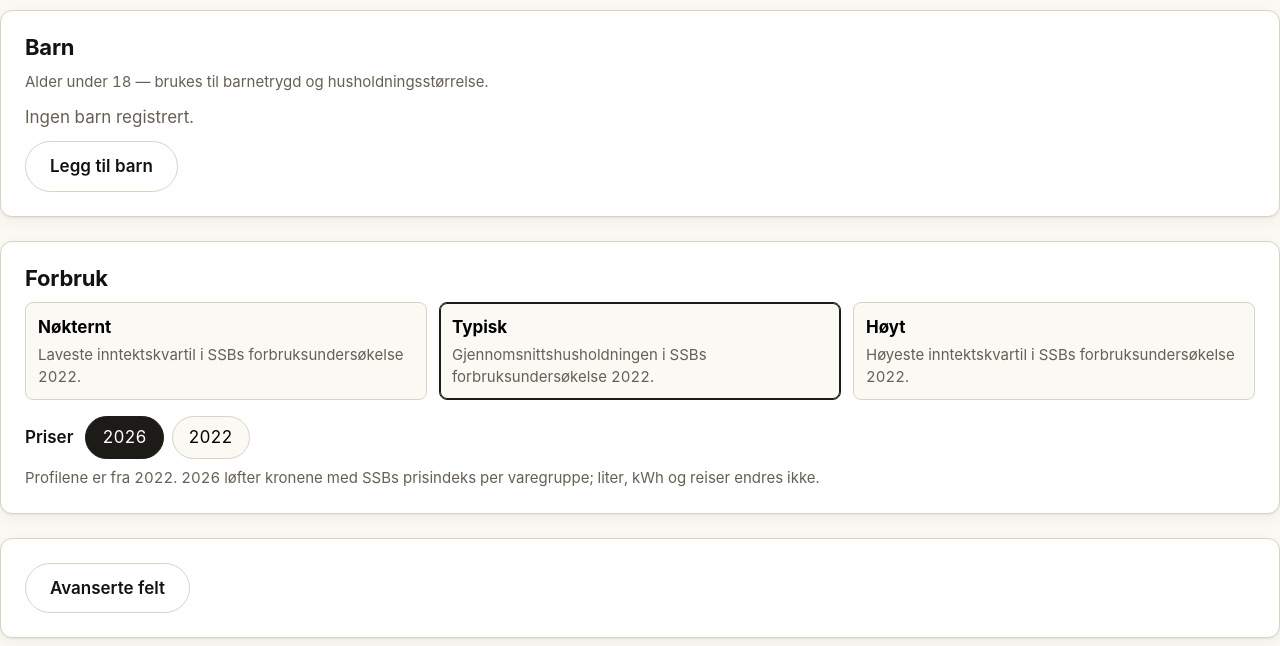
Test: CalculatorView: wealth fields the engine already models › wealth fields show the "kr" suffix, unlike the "kr/år" wage field (L8)
(page scrolled)
Click the button "Avanserte felt" at (108, 588), box 25,563 -> 190,613
(page scrolled)
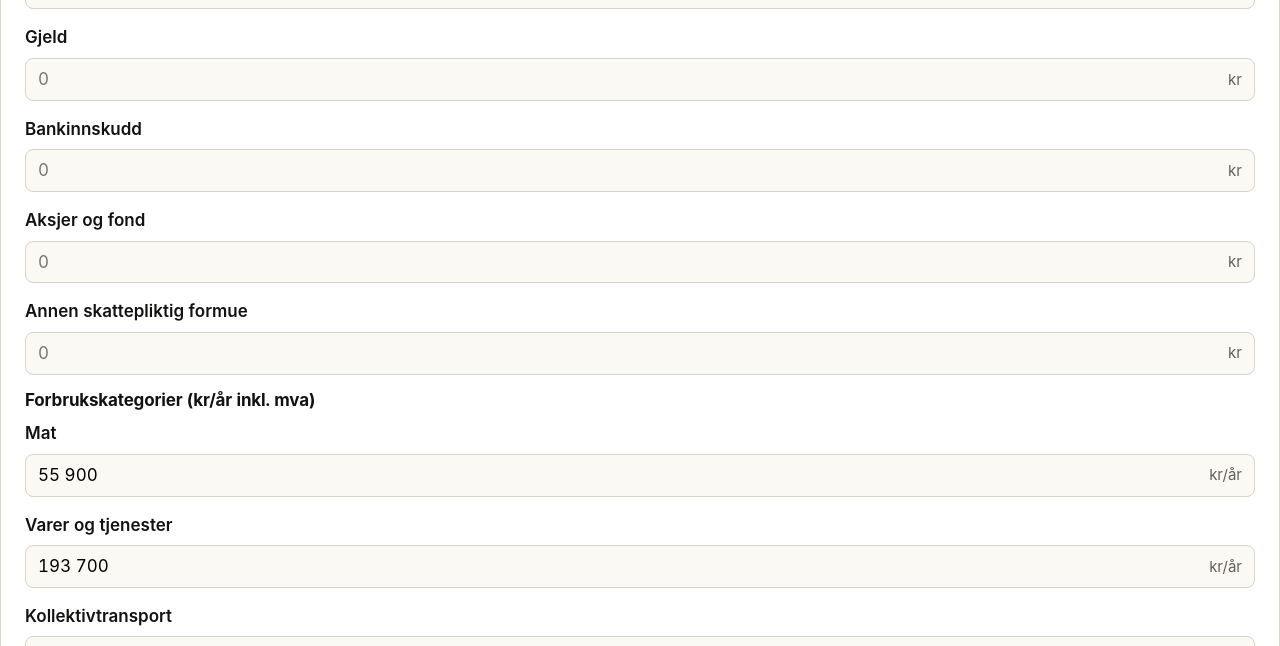
Result: the 5th text "kr" is shown at 1228,342 -> 1242,364
